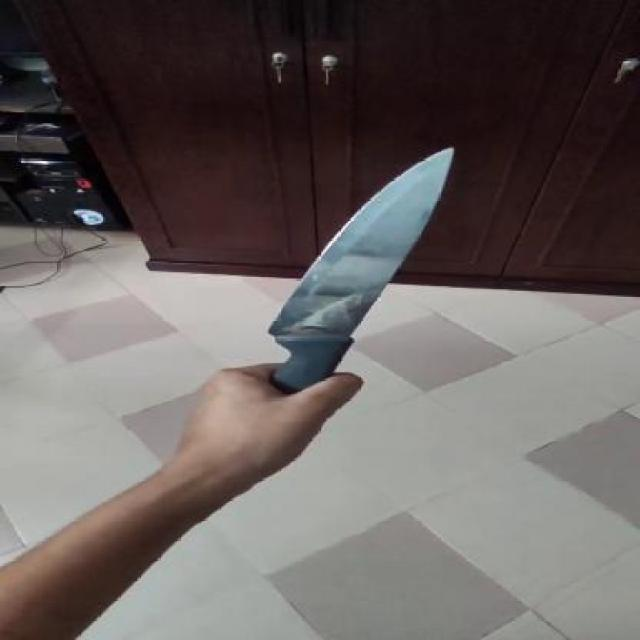-: (266, 148, 459, 388)
